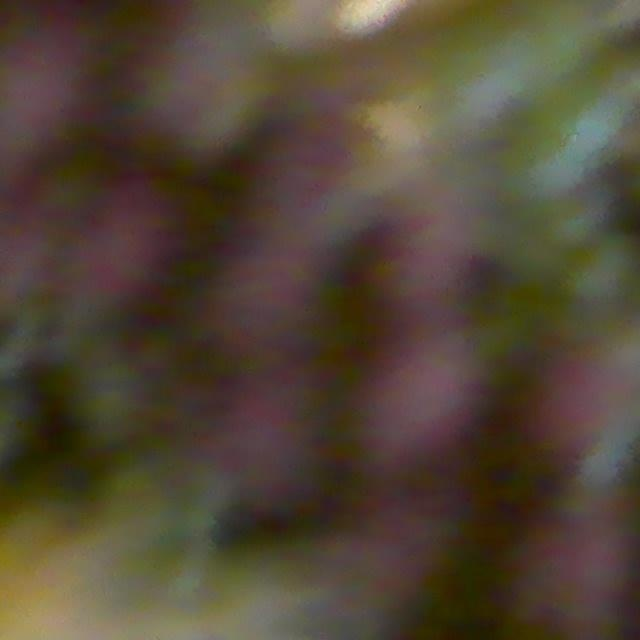SeaGrape: (344, 323, 488, 467), (498, 484, 616, 640), (202, 384, 326, 510), (349, 200, 466, 328), (499, 351, 610, 472), (204, 256, 310, 373)
